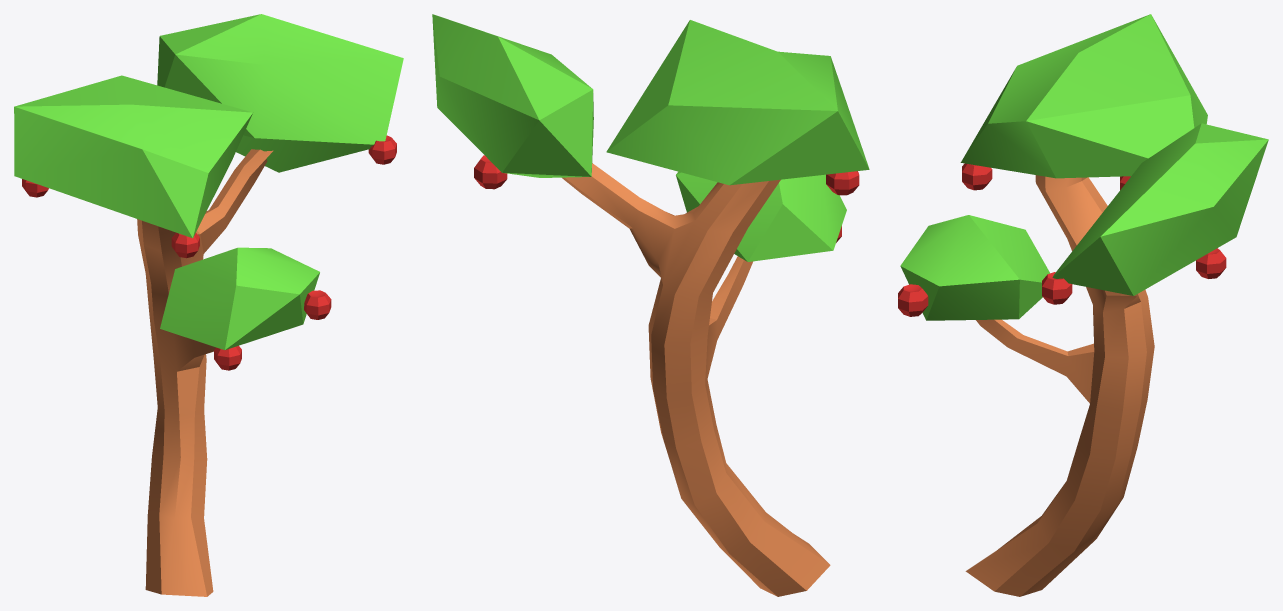
The model's file is tree5.fbx.
3 views of the same model, side by side, from view 1: azimuth 30°, elevation 25°; view 2: azimuth 150°, elevation 25°; view 3: azimuth 270°, elevation 25° (orthographic). The views are drawn at different scales.
Visible parts, largest first — view 1: Icosphere.009, Icosphere.010, Cube.004, Icosphere.011, Sphere.001, Sphere.002, Sphere.005, Sphere; view 2: Cube.004, Icosphere.009, Icosphere.010, Icosphere.011, Sphere.003, Sphere.006; view 3: Cube.004, Icosphere.009, Icosphere.010, Icosphere.011, Sphere.001, Sphere.002, Sphere.003, Sphere.005.
Boxes of the visible parts, <box> form: Icosphere.009: <box>14,75,252,238</box>; Icosphere.010: <box>157,14,403,172</box>; Cube.004: <box>137,149,273,596</box>; Icosphere.011: <box>160,247,319,349</box>; Sphere.001: <box>304,290,331,319</box>; Sphere.002: <box>368,135,396,164</box>; Sphere.005: <box>171,232,199,258</box>; Sphere: <box>214,345,241,370</box>; Cube.004: <box>562,163,830,596</box>; Icosphere.009: <box>606,20,869,185</box>; Icosphere.010: <box>432,14,593,177</box>; Icosphere.011: <box>676,171,846,261</box>; Sphere.003: <box>474,155,507,189</box>; Sphere.006: <box>826,171,859,195</box>; Cube.004: <box>965,175,1154,596</box>; Icosphere.009: <box>960,14,1207,178</box>; Icosphere.010: <box>1052,123,1268,295</box>; Icosphere.011: <box>900,215,1049,320</box>; Sphere.001: <box>898,284,928,316</box>; Sphere.002: <box>1042,272,1072,304</box>; Sphere.003: <box>1196,248,1226,278</box>; Sphere.005: <box>962,163,992,190</box>.
Bounding box in the file's own units: 826 × 999 × 636.
